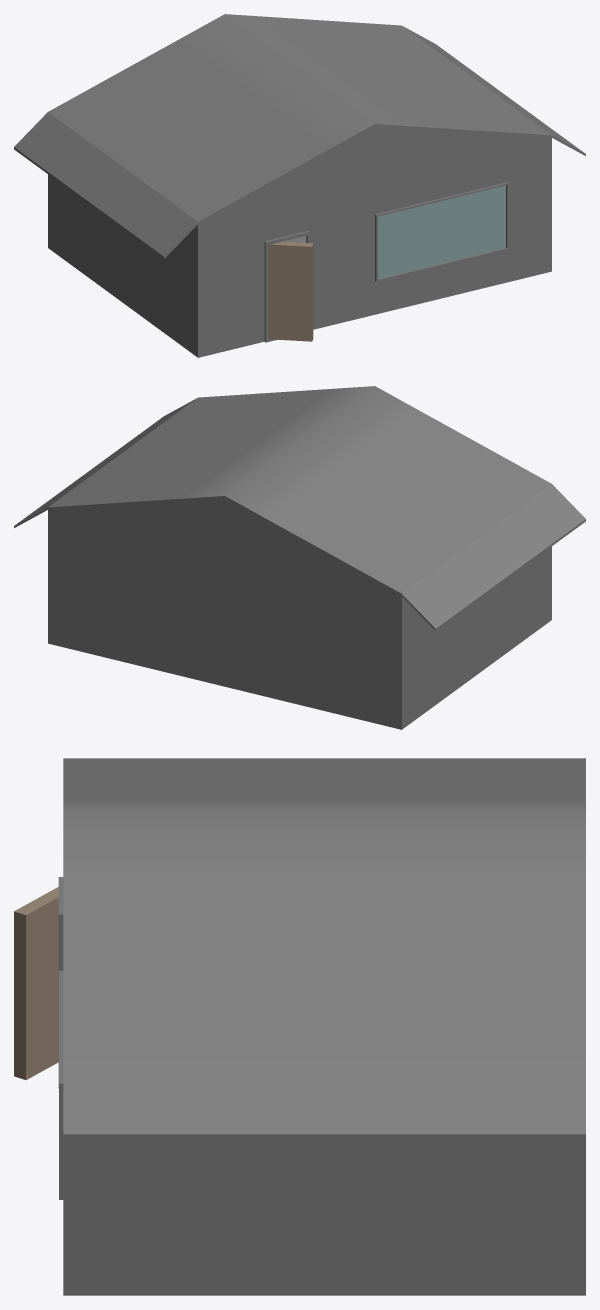
File: PlayerHouse.fbx
The picture shows the model from 3 angles, top to bottom: view 1: azimuth 30°, elevation 25°; view 2: azimuth 150°, elevation 25°; view 3: azimuth 270°, elevation 25°; orthographic projection. The views are drawn at different scales.
Visible parts, largest first — view 1: polySurface1, polySurface2; view 2: polySurface1; view 3: polySurface1, polySurface2.
Boxes of the visible parts, x1,y1,x2,y2 form: polySurface1: [14, 14, 585, 357]; polySurface2: [268, 241, 313, 341]; polySurface1: [14, 386, 585, 729]; polySurface1: [58, 758, 585, 1295]; polySurface2: [14, 887, 58, 1079].
Bounding box in the file's own units: 238 × 103 × 161.
